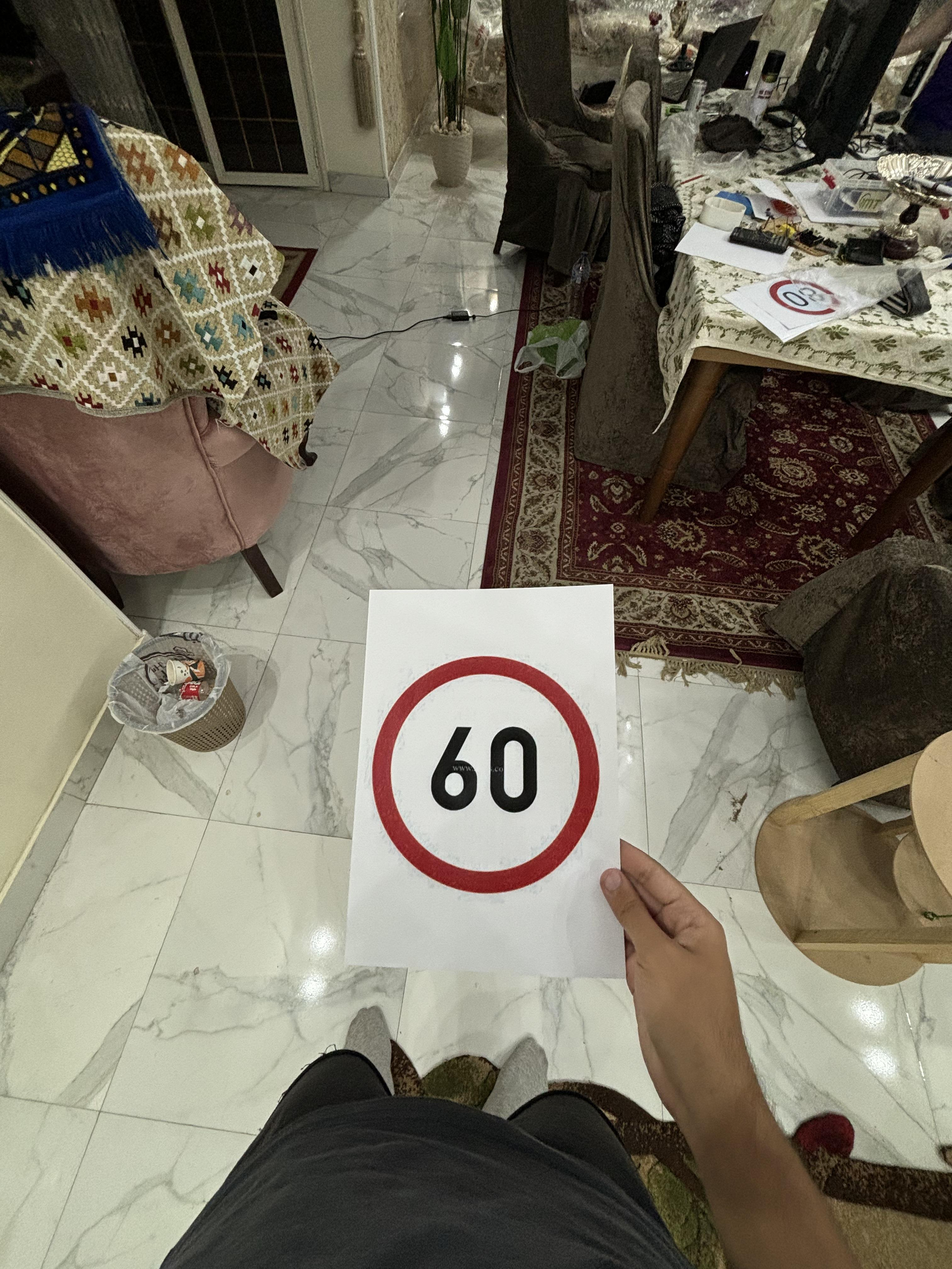60-Speed: (382, 652, 601, 893)
